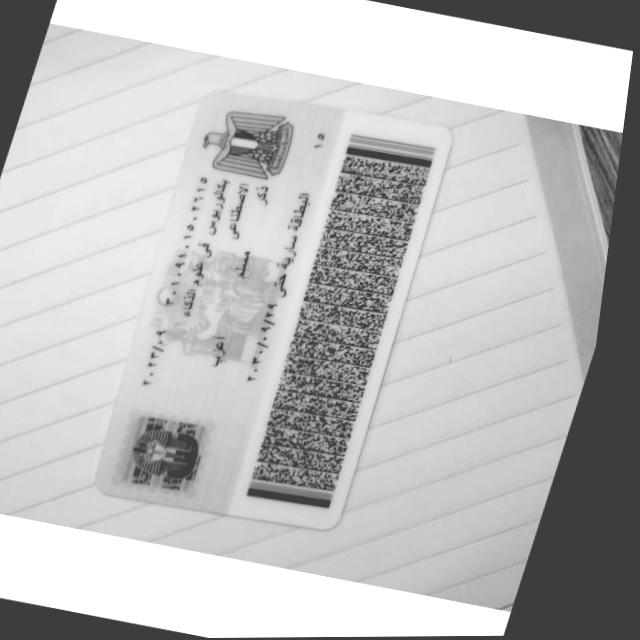id_card: (93, 91, 449, 529)
